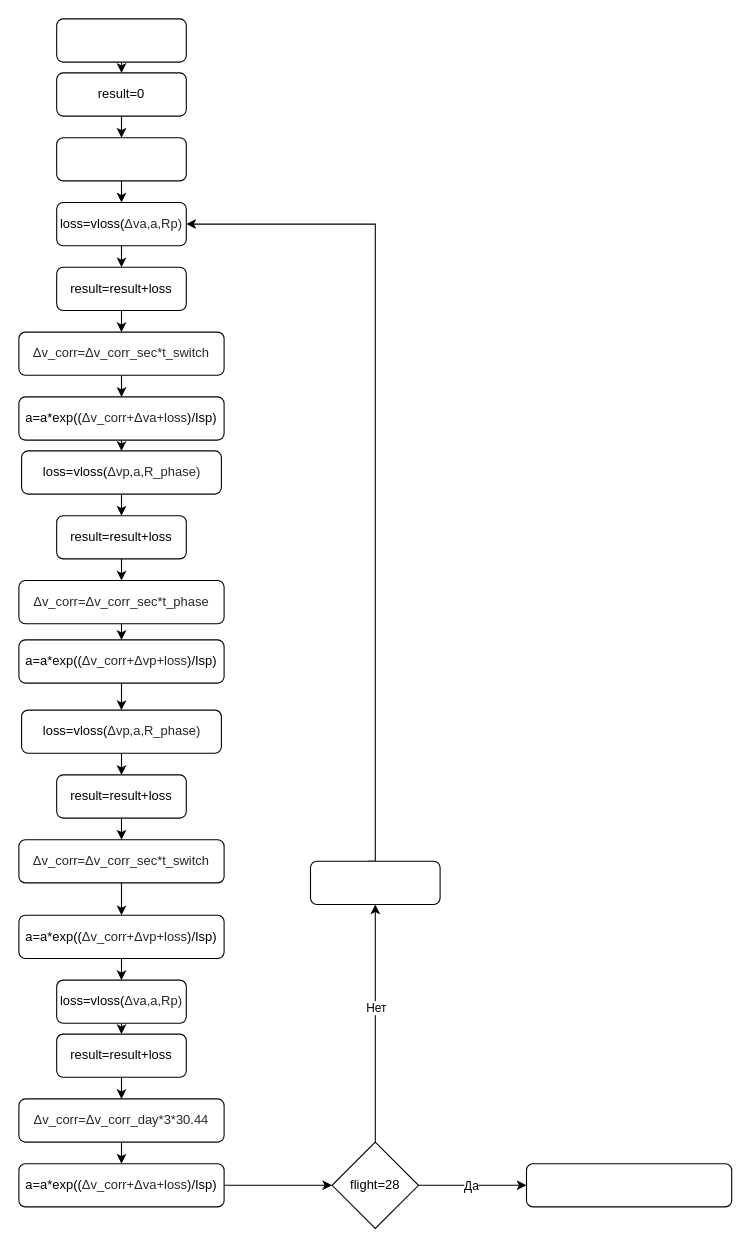
Some shapes in this 751 by 1247 pixel diagram are drawn without their labels. Here are the shapes that lost their labels. From the top down, the box of each, then its label:
(56, 18, 186, 62): flight=1
(56, 137, 186, 181): a=a0
(309, 860, 440, 905): flight=flight+1
(525, 1163, 732, 1207): v_losses_sum=result
